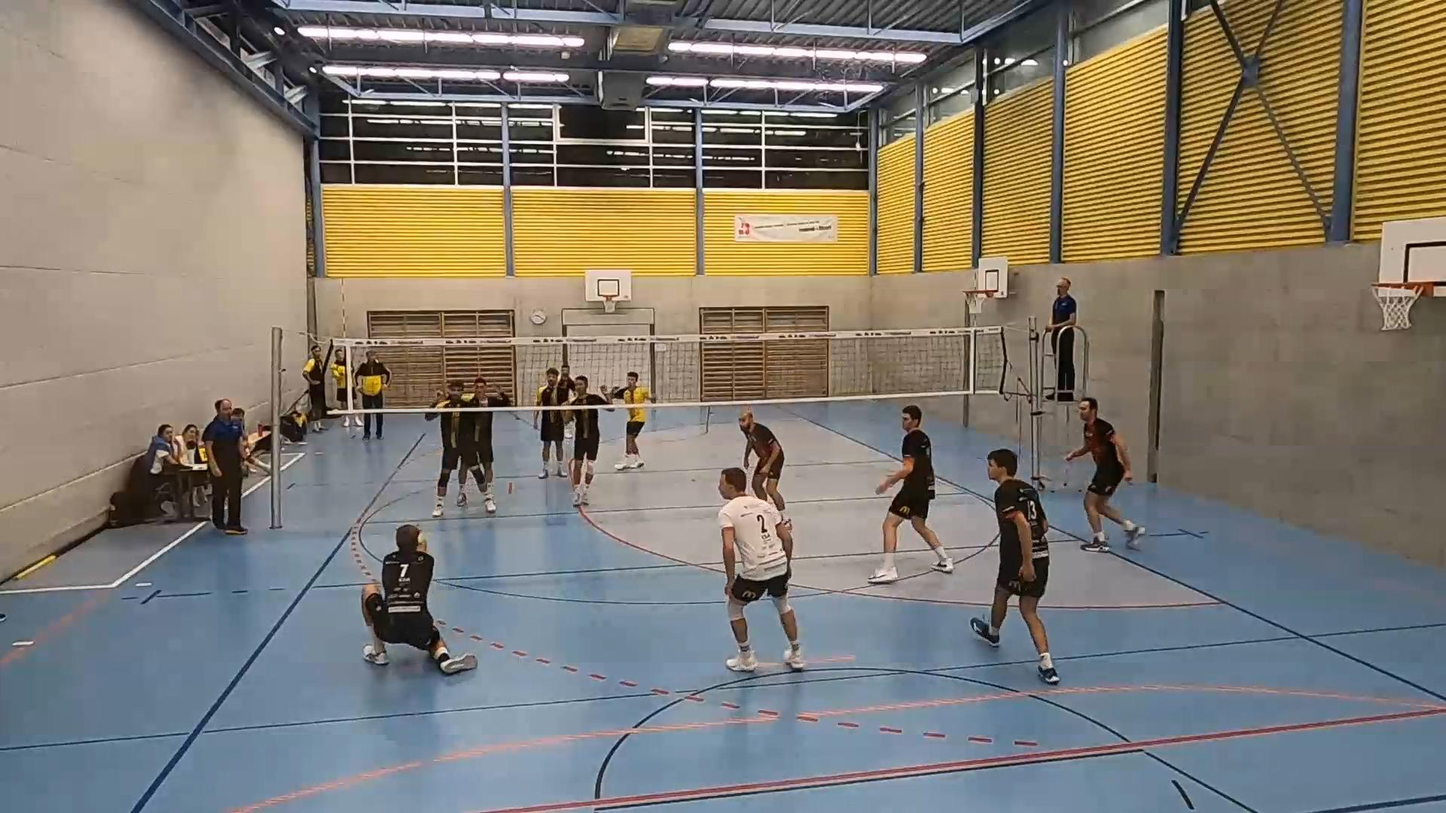Player: (971, 449, 1058, 684), (718, 468, 805, 671), (868, 404, 953, 583), (1065, 397, 1145, 552), (738, 407, 789, 522), (424, 412, 477, 517), (609, 371, 651, 470), (468, 411, 496, 513), (571, 408, 599, 505), (534, 410, 565, 478), (559, 364, 575, 400)
Receive: (356, 521, 481, 681)
